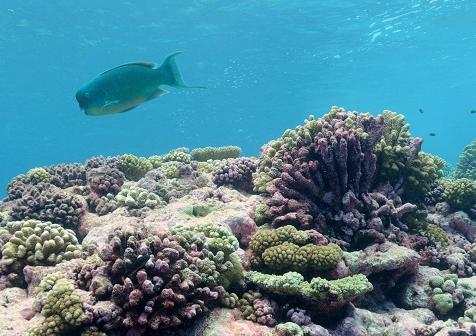Scaridae -Parrotfishes-: (70, 47, 216, 115)
